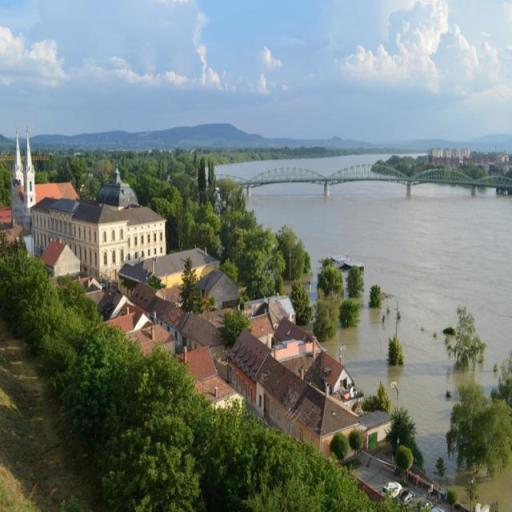flood: (248, 182, 512, 468), (217, 155, 383, 177), (482, 469, 512, 512)
house: (222, 325, 374, 458), (80, 200, 168, 281), (118, 246, 220, 298), (180, 345, 243, 415), (28, 182, 79, 248), (314, 348, 355, 400), (274, 312, 316, 356), (427, 146, 491, 172), (267, 296, 298, 332)
